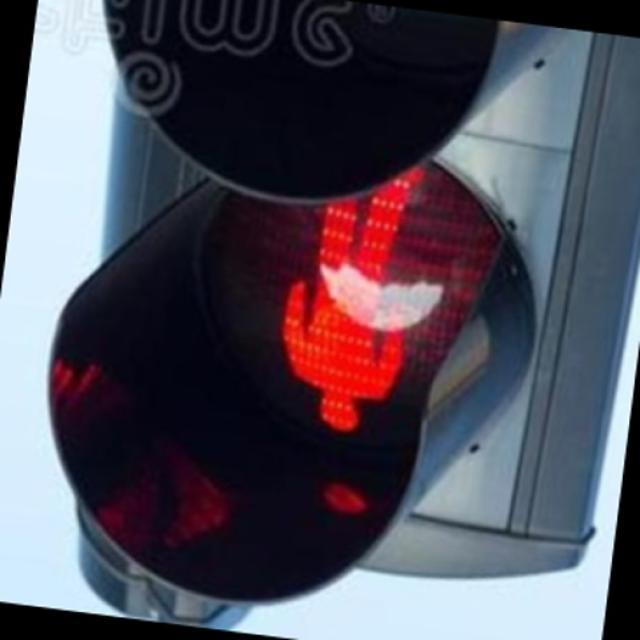red-crossing: (81, 98, 555, 535)
